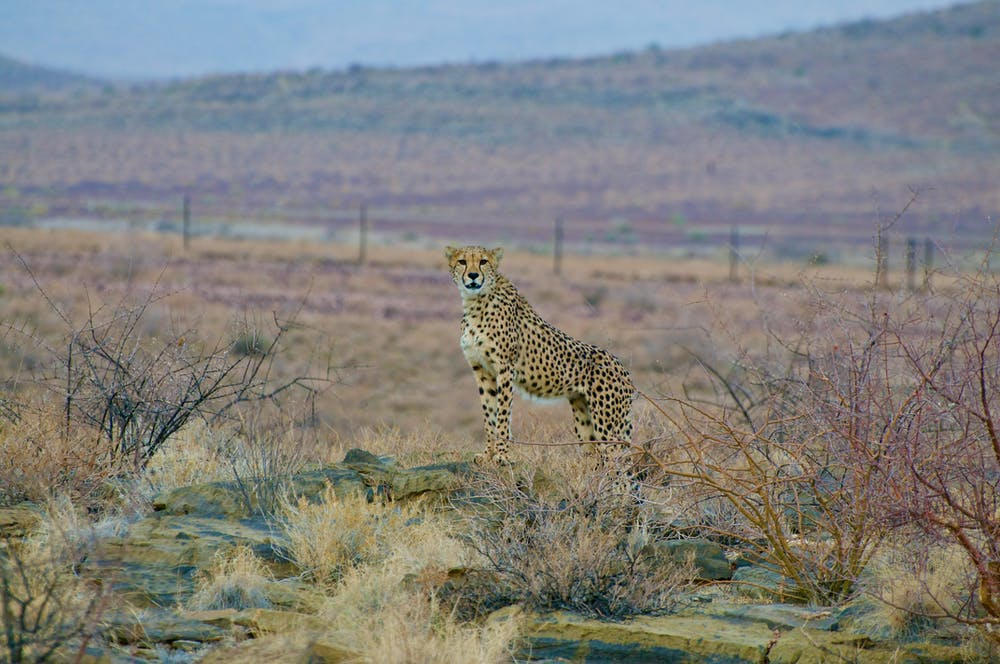cheetah: (437, 234, 507, 303)
